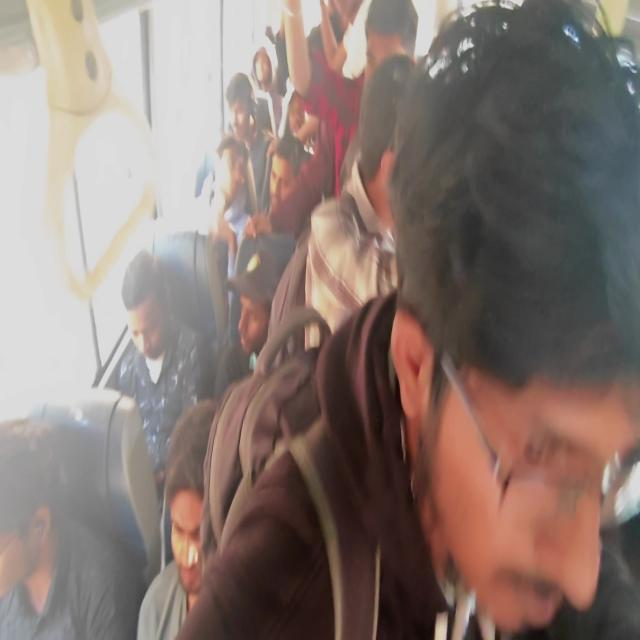person: (171, 0, 638, 638), (303, 52, 416, 354), (0, 415, 144, 639), (105, 248, 212, 493), (136, 397, 218, 638), (215, 248, 280, 397), (223, 71, 273, 215)
